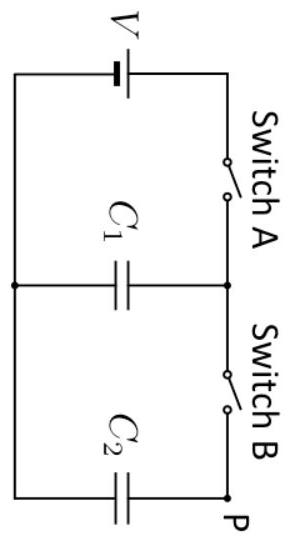Capacitor: (84, 251, 155, 327)
